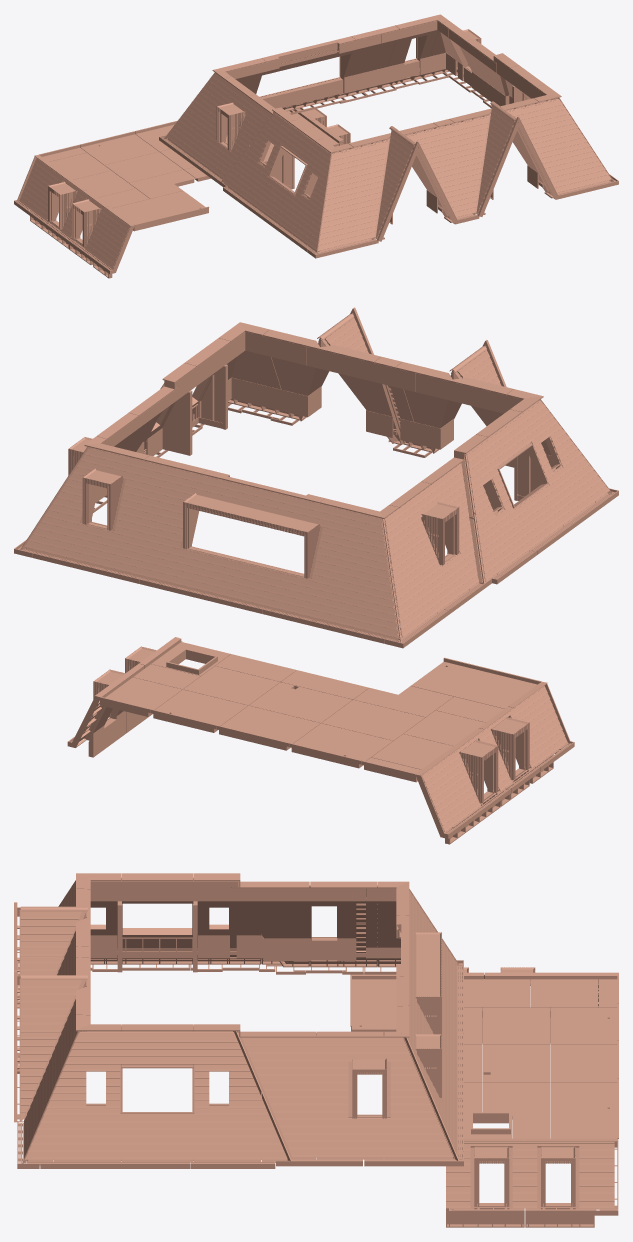
Rendered from roofing.glb.
3 renders of one model, top to bottom at view 1: azimuth 30°, elevation 25°; view 2: azimuth 150°, elevation 25°; view 3: azimuth 270°, elevation 25°, orthographic. The views are drawn at different scales.
Visible parts, largest first — view 1: roofing; view 2: roofing; view 3: roofing.
Part boxes in pixels (x1,y1,x2,y2): roofing: (14,14,618,278); roofing: (14,307,618,844); roofing: (14,873,618,1227).
Bounding box in the file's own units: 22.6 × 10.39 × 21.83.
